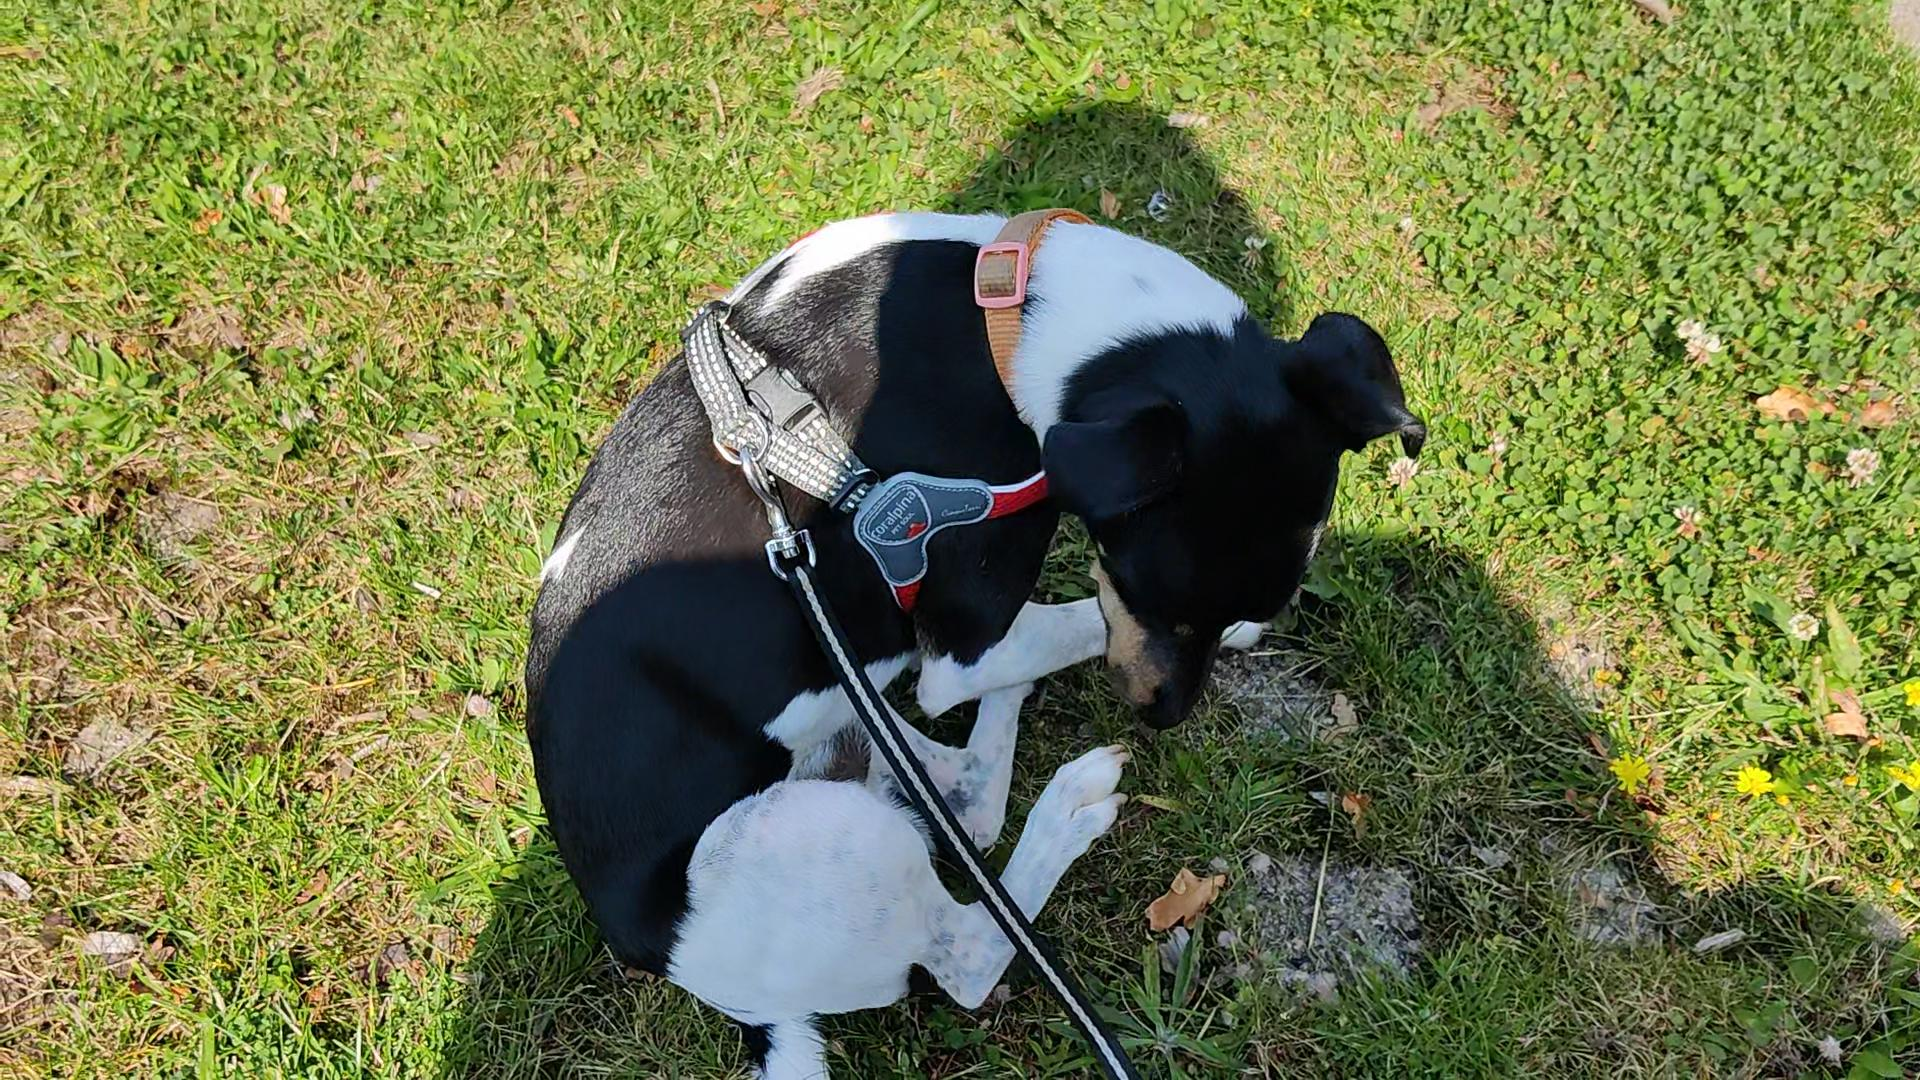Dog: (516, 196, 1433, 1079)
